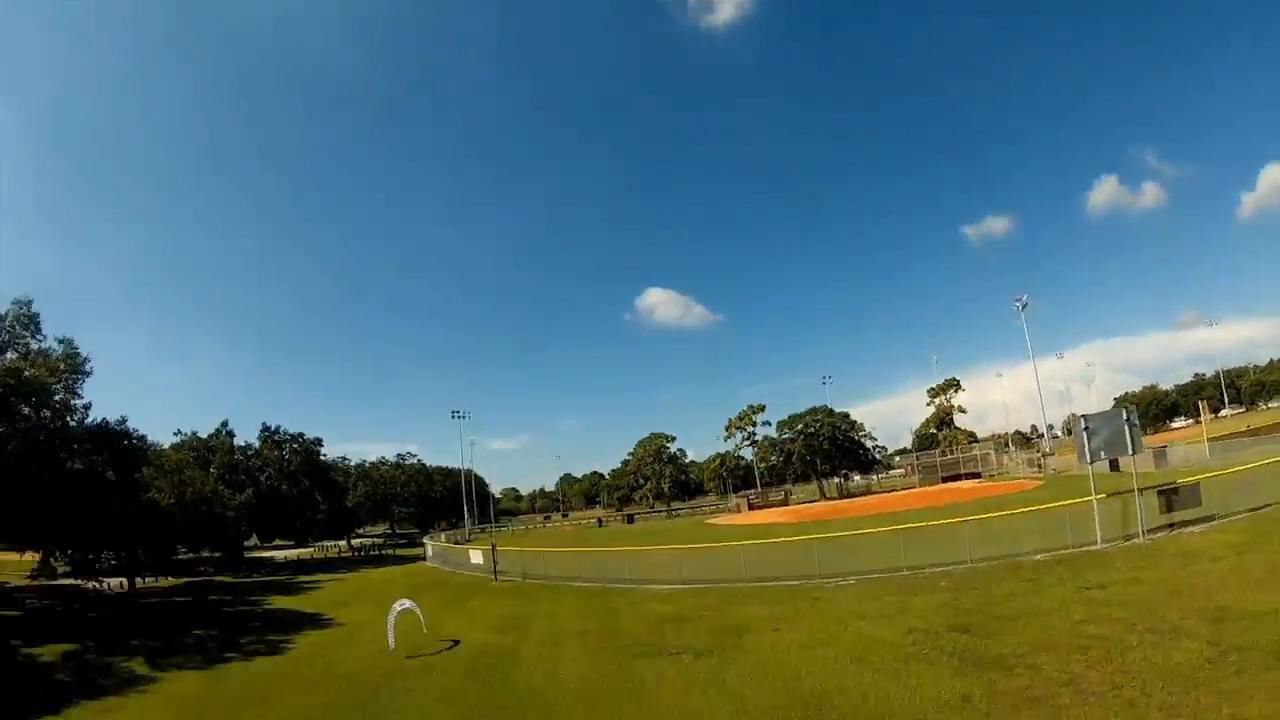gate: (382, 595, 428, 648)
